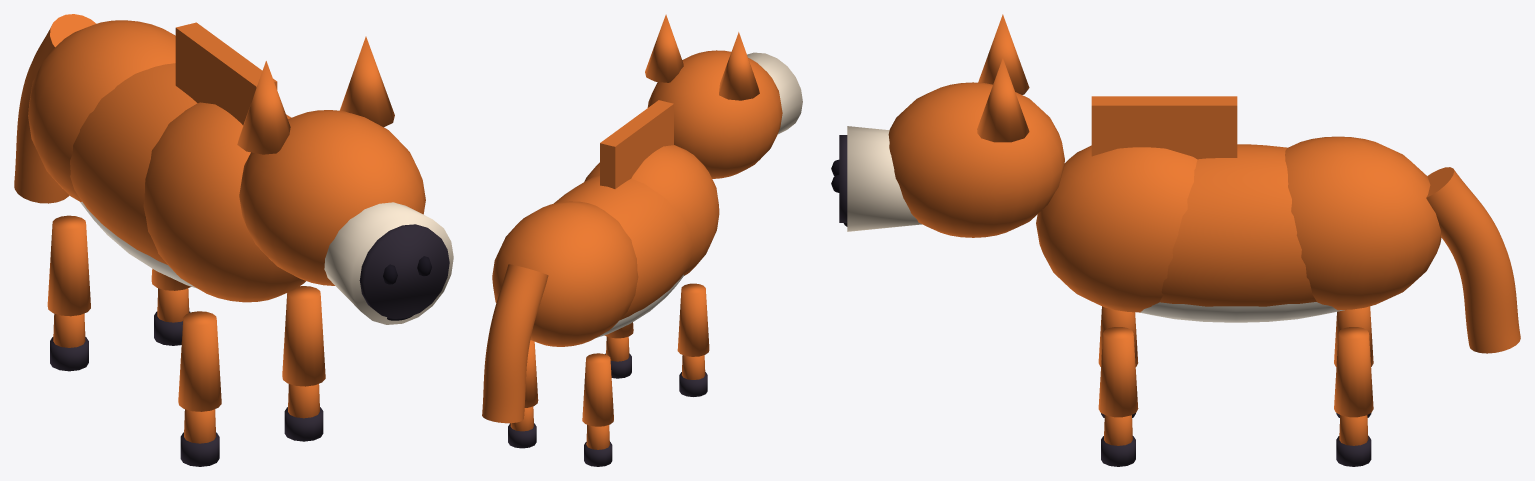
Rendered from fox.glb.
3 renders of one model, left to right at view 1: azimuth 30°, elevation 25°; view 2: azimuth 150°, elevation 25°; view 3: azimuth 270°, elevation 25°, orthographic. The views are drawn at different scales.
Visible parts, largest first — view 1: body, head, legFR, legBR, legFL, tail, earR, earL, legBL; view 2: body, head, tail, legBR, legFR, earR, legBL, earL, legFL; view 3: body, head, tail, legBL, legFL, earL, earR, legBR, legFR.
Boxes of the visible parts, left/top/right/bottom form: body: left=28, top=20, right=305, bottom=302; head: left=239, top=110, right=453, bottom=324; legFR: left=178, top=311, right=221, bottom=466; legBR: left=47, top=215, right=90, bottom=371; legFL: left=282, top=286, right=325, bottom=441; tail: left=14, top=14, right=96, bottom=203; earR: left=237, top=61, right=290, bottom=154; earL: left=340, top=36, right=394, bottom=127; legBL: left=151, top=268, right=191, bottom=345; body: left=492, top=100, right=719, bottom=346; head: left=647, top=50, right=802, bottom=178; tail: left=482, top=264, right=548, bottom=423; legBR: left=582, top=353, right=613, bottom=466; legFR: left=677, top=283, right=709, bottom=396; earR: left=719, top=32, right=759, bottom=100; legBL: left=508, top=340, right=538, bottom=448; earL: left=645, top=14, right=683, bottom=82; legFL: left=604, top=322, right=633, bottom=378; body: left=1036, top=96, right=1441, bottom=322; head: left=831, top=82, right=1064, bottom=237; tail: left=1426, top=167, right=1520, bottom=353; legBL: left=1334, top=327, right=1373, bottom=466; legFL: left=1098, top=327, right=1138, bottom=466; earL: left=977, top=58, right=1029, bottom=142; earR: left=978, top=14, right=1029, bottom=94; legBR: left=1334, top=306, right=1373, bottom=417; legFR: left=1098, top=306, right=1138, bottom=417.
Bounding box in the file's own units: 0.4 × 1.01 × 1.58.
